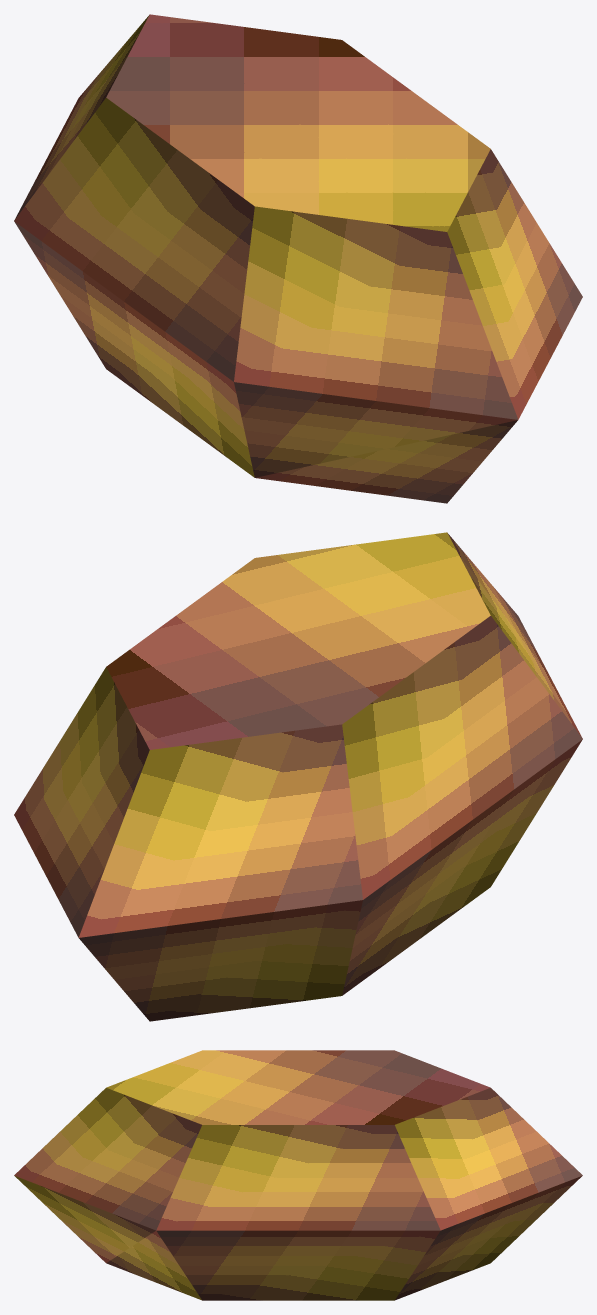
Rendered from Jewel15.glb.
The picture shows the model from 3 angles, top to bottom: view 1: azimuth 30°, elevation 25°; view 2: azimuth 150°, elevation 25°; view 3: azimuth 270°, elevation 25°; orthographic projection. The views are drawn at different scales.
Visible parts, largest first — view 1: model_Jewel15; view 2: model_Jewel15; view 3: model_Jewel15.
Boxes of the visible parts, x1,y1,x2,y2 form: model_Jewel15: [14, 14, 582, 503]; model_Jewel15: [14, 532, 582, 1021]; model_Jewel15: [14, 1050, 582, 1300].
Size of the model in its own units: 0.1519 by 0.1129 by 0.3316.
1 material, 1 textured.
